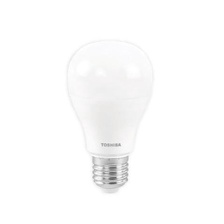light_bulb: (60, 32, 157, 194)
